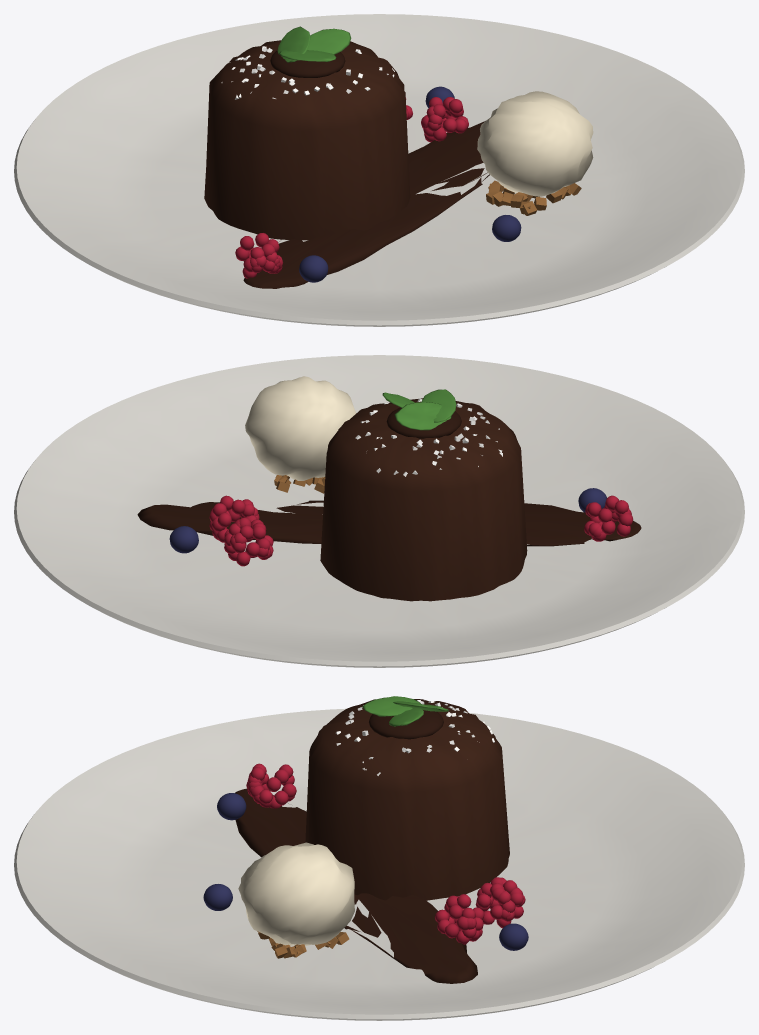
File: volcan-chocolate.glb
3 views of the same model, one above another, from view 1: azimuth 30°, elevation 25°; view 2: azimuth 150°, elevation 25°; view 3: azimuth 270°, elevation 25° (orthographic).
Visible parts, largest first — view 1: volcan-chocolate; view 2: volcan-chocolate; view 3: volcan-chocolate.
Boxes of the visible parts, x1,y1,x2,y2 form: volcan-chocolate: [14, 14, 744, 326]; volcan-chocolate: [14, 355, 744, 667]; volcan-chocolate: [14, 696, 744, 1020].
Size of the model in its own units: 0.272 by 0.0775 by 0.272.
